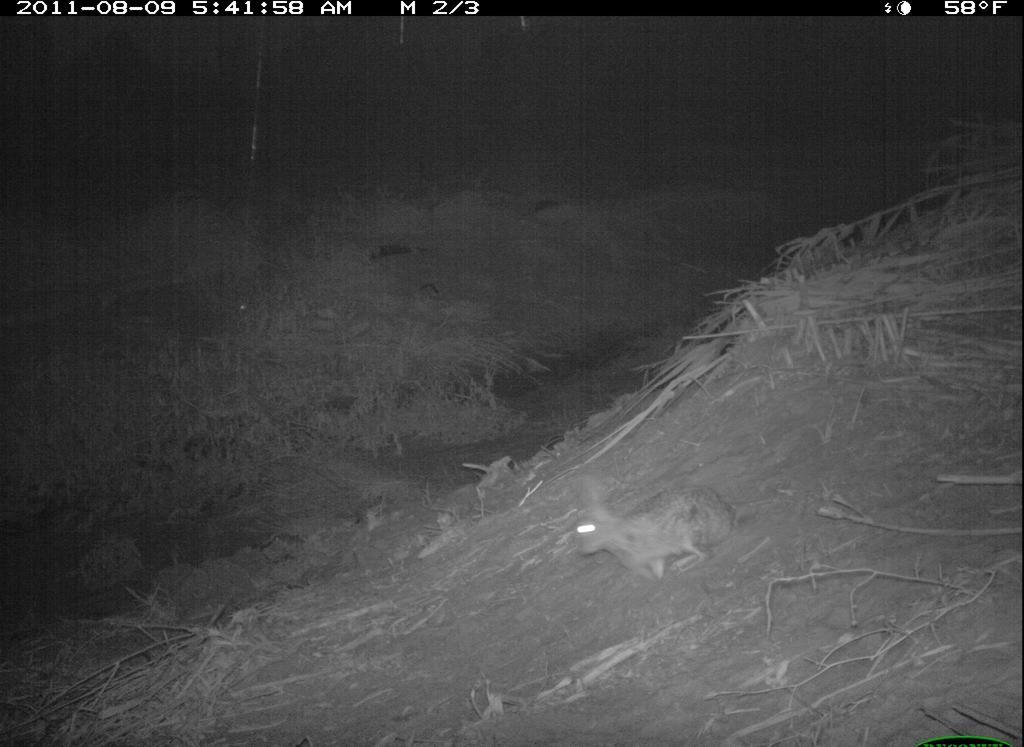rabbit: (557, 464, 754, 593)
